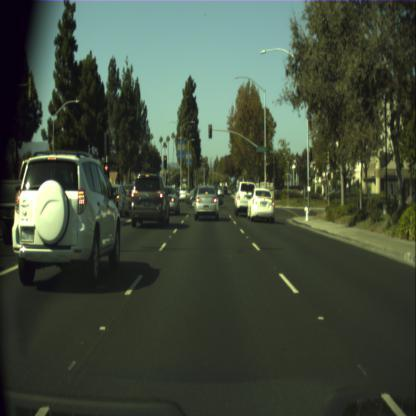Red: (208, 124, 212, 138), (266, 162, 268, 172)
RedLeft: (103, 163, 109, 183), (164, 156, 166, 167)
